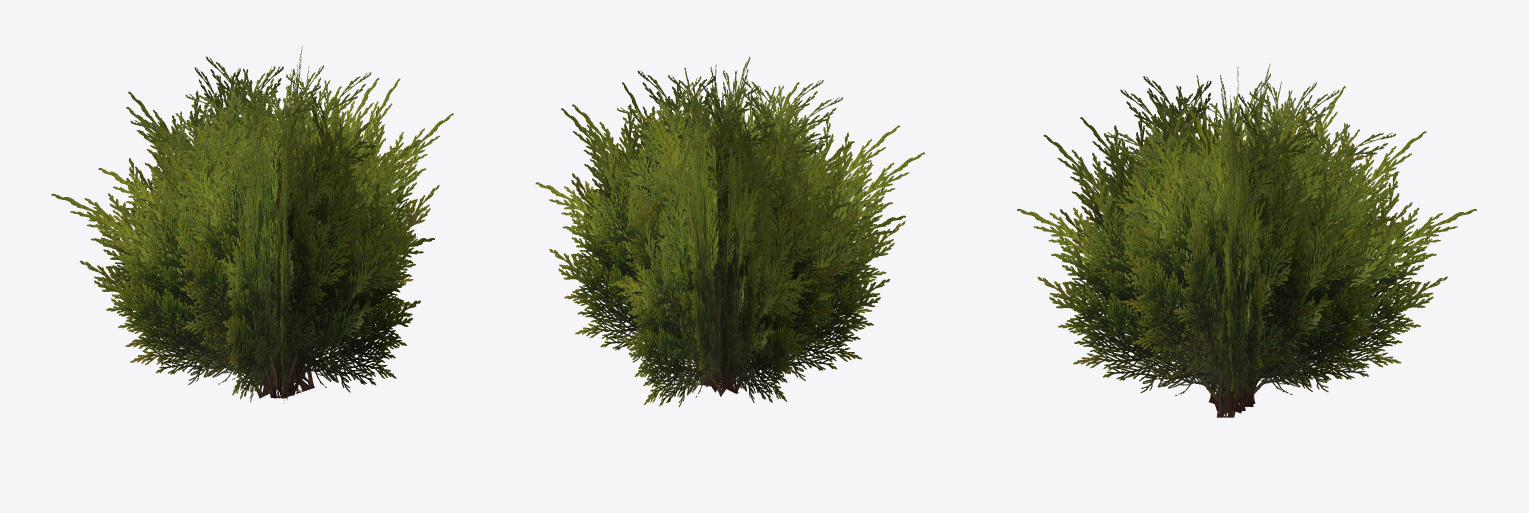
The model's file is Bush2.fbx.
3 renders of one model, left to right at view 1: azimuth 30°, elevation 25°; view 2: azimuth 150°, elevation 25°; view 3: azimuth 270°, elevation 25°, orthographic. The views are drawn at different scales.
Parts seen in each view (by area): view 1: pPlane22; view 2: pPlane22; view 3: pPlane22.
Boxes of the visible parts, x1,y1,x2,y2 form: pPlane22: (51,46,453,403); pPlane22: (535,56,924,406); pPlane22: (1017,64,1476,417).
Bounding box in the file's own units: 1.42 × 1.31 × 1.54.
